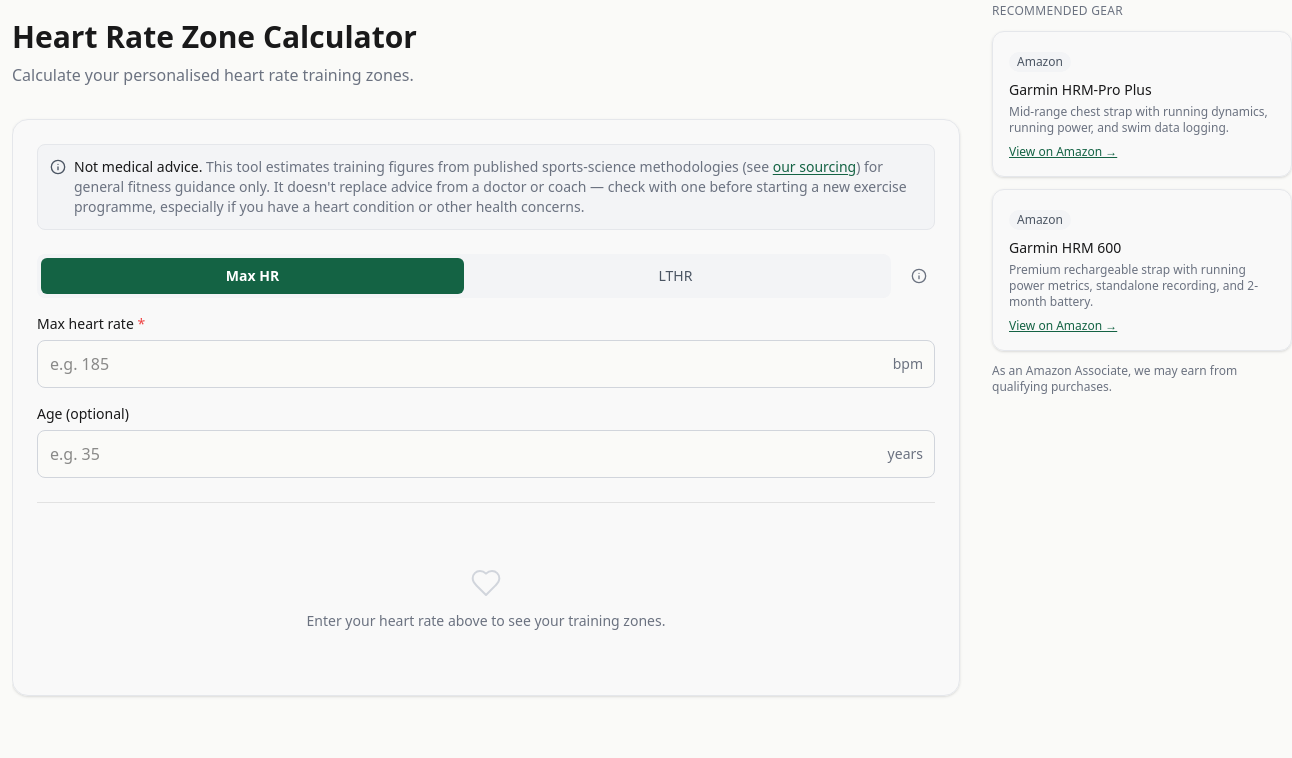
Test: HrZones page › shows zone gap note when LTHR results are displayed (m1 finding fix)
The width and height of the screenshot is (1292, 758).
Click the tab "LTHR": point(676, 276) 464,258 -> 887,294
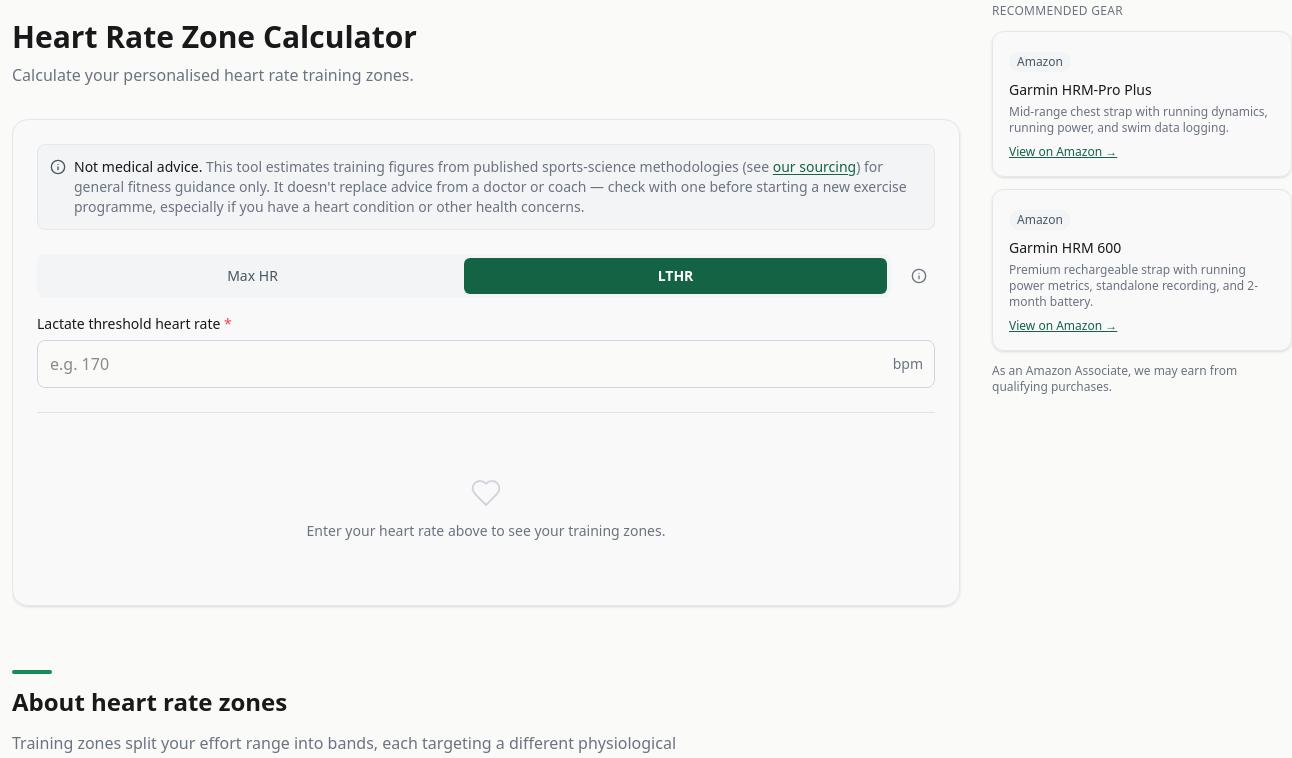
In the number field labelled "Lactate threshold heart rate *": point(486, 364) 37,340 -> 935,388, type "170"
(page scrolled)
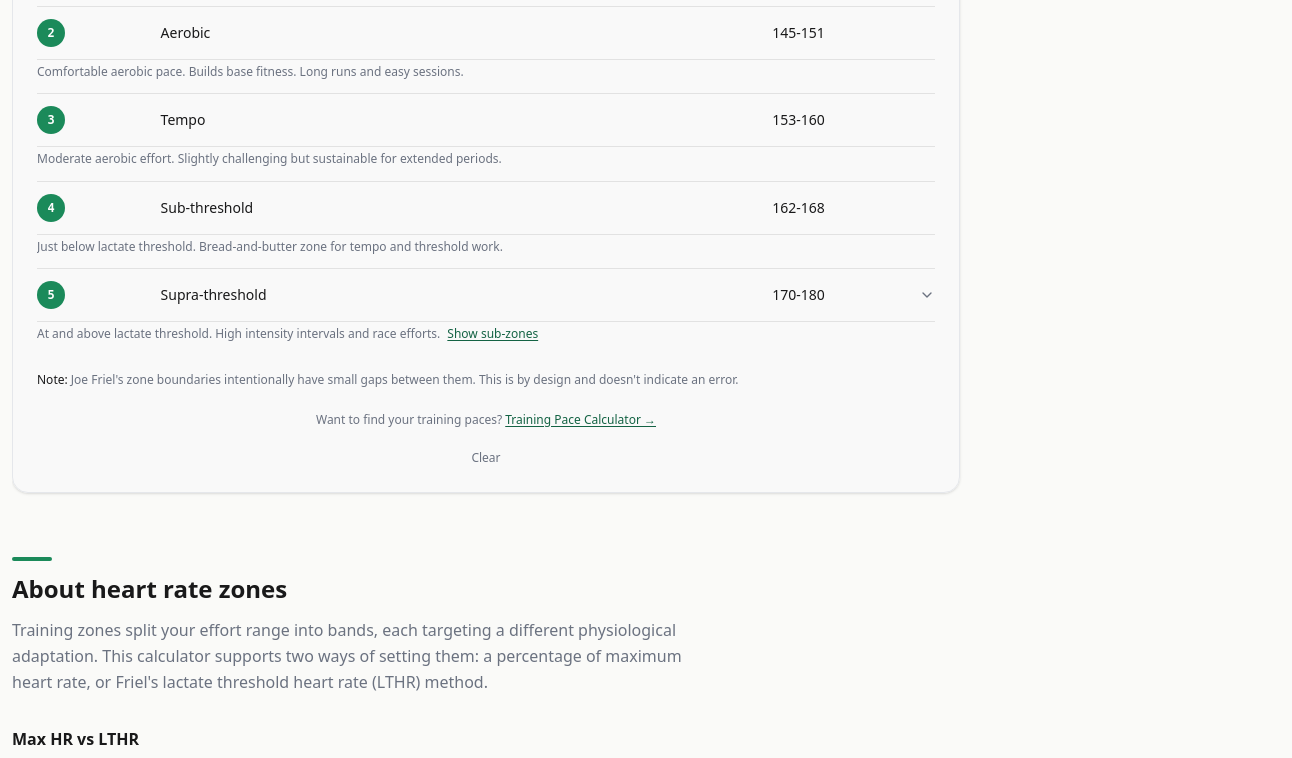
Now the text "Joe Friel's zone boundaries intentionally have small gaps" is shown, box 68,370 -> 738,388
